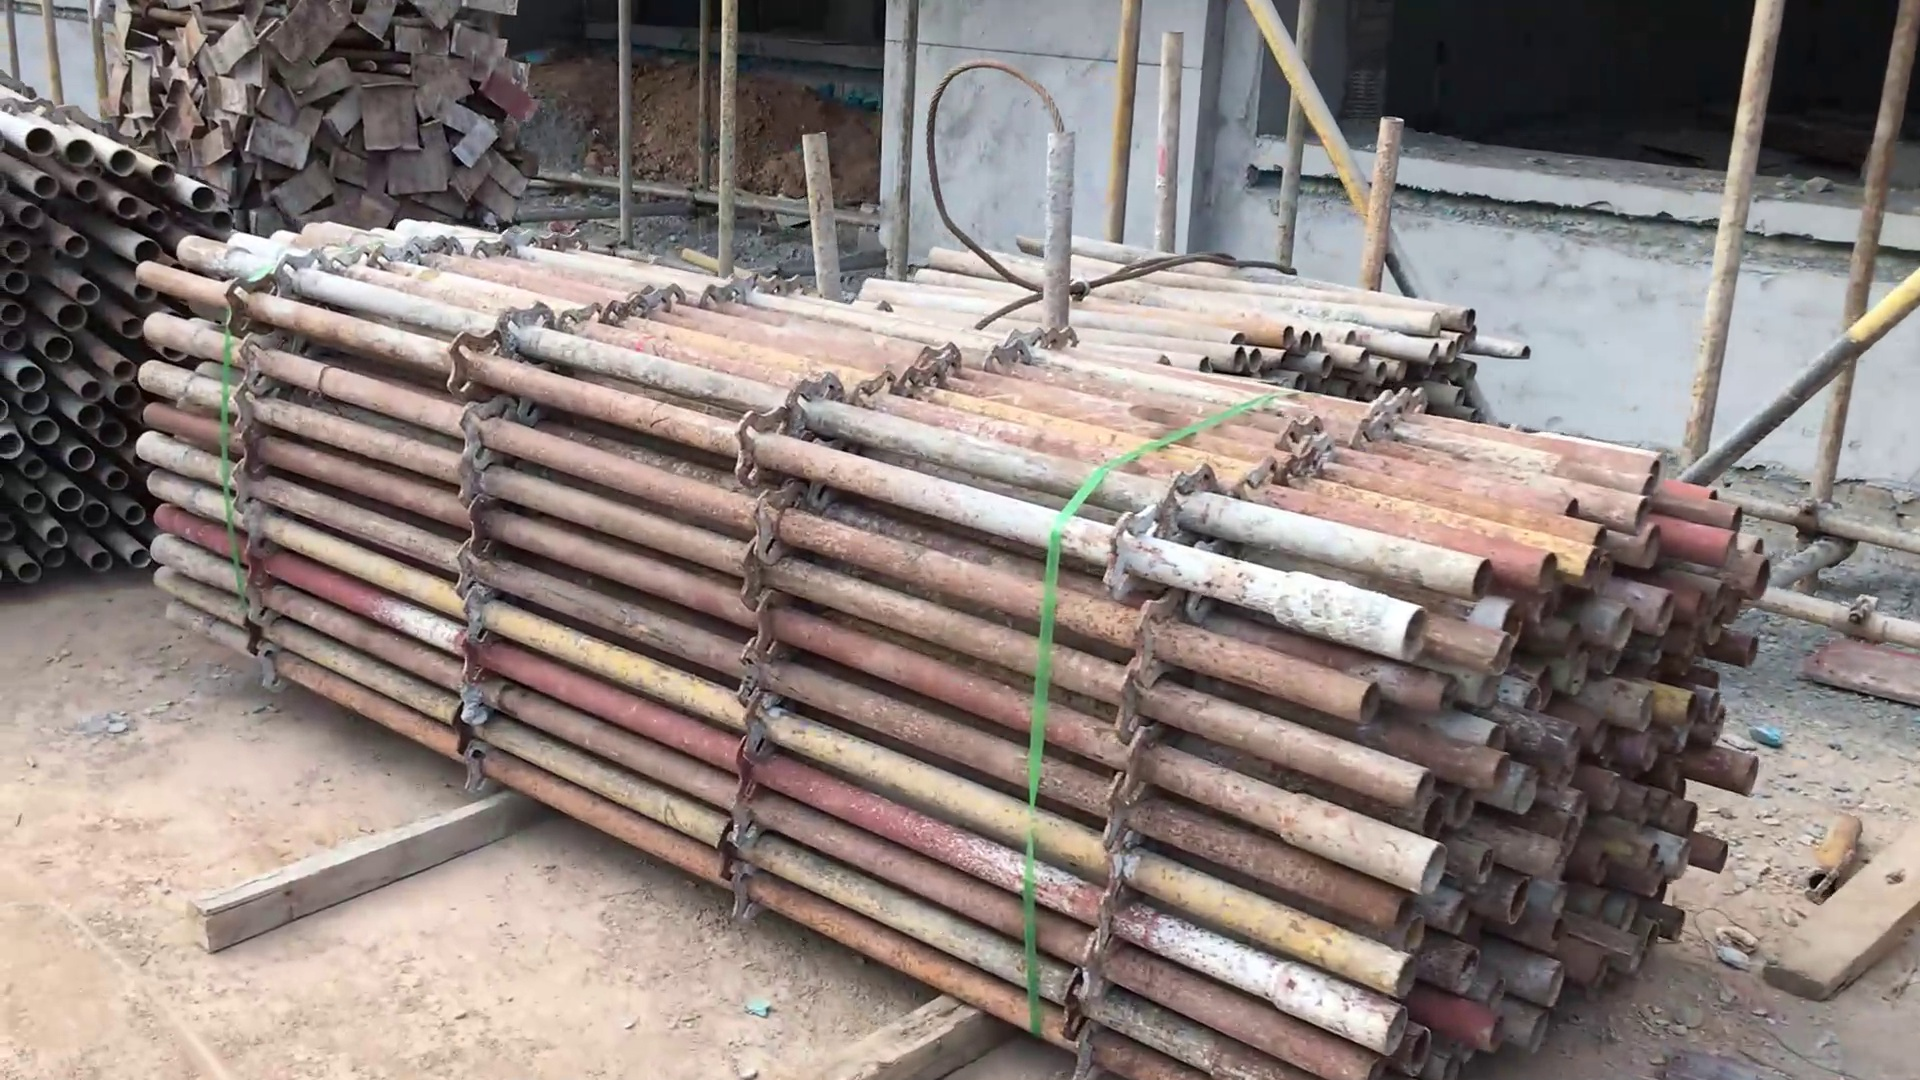scaffold: (124, 196, 1770, 1080), (1, 69, 243, 588), (876, 202, 1510, 396)
